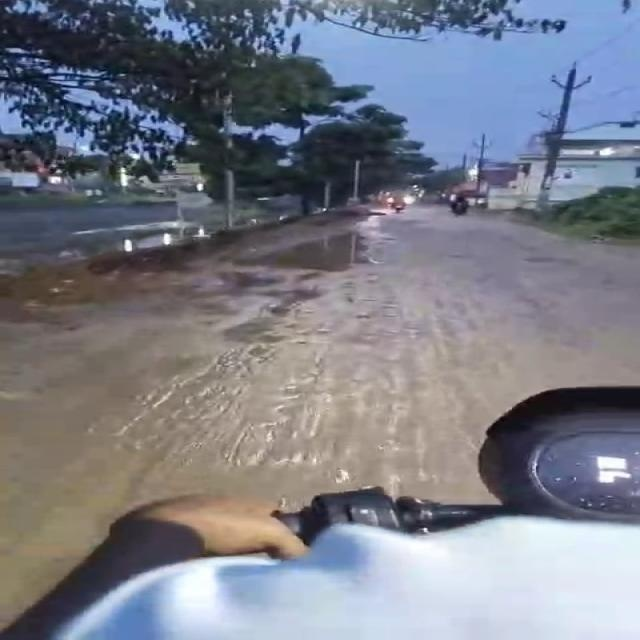pothole: (252, 232, 374, 270), (225, 314, 289, 348), (212, 270, 282, 290), (268, 288, 322, 313)
